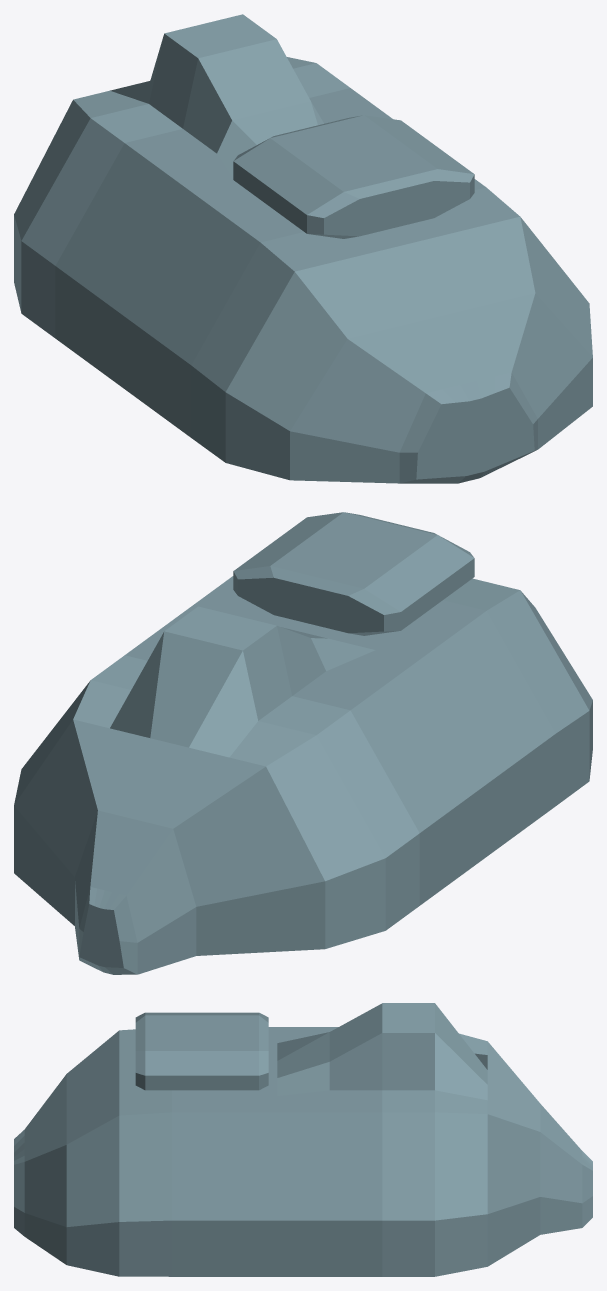
The model's file is ballard_medium_b.glb.
3 views of the same model, one above another, from view 1: azimuth 30°, elevation 25°; view 2: azimuth 150°, elevation 25°; view 3: azimuth 270°, elevation 25° (orthographic). The views are drawn at different scales.
Parts seen in each view (by area): view 1: ballard_medium_b; view 2: ballard_medium_b; view 3: ballard_medium_b.
Boxes of the visible parts, x1=… form: ballard_medium_b: x1=14, y1=14, x2=592, y2=483; ballard_medium_b: x1=14, y1=512, x2=592, y2=974; ballard_medium_b: x1=14, y1=1003, x2=592, y2=1276.
Bounding box in the file's own units: 3.6 × 2.48 × 6.4.
